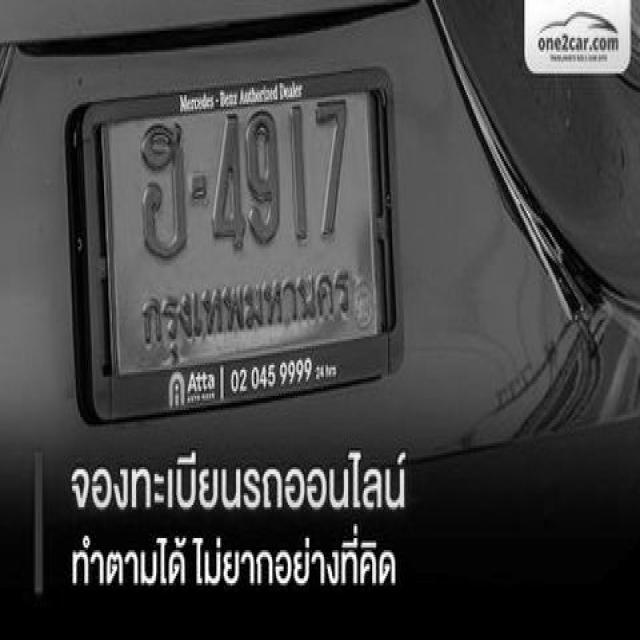license_plate: (93, 102, 416, 360)
